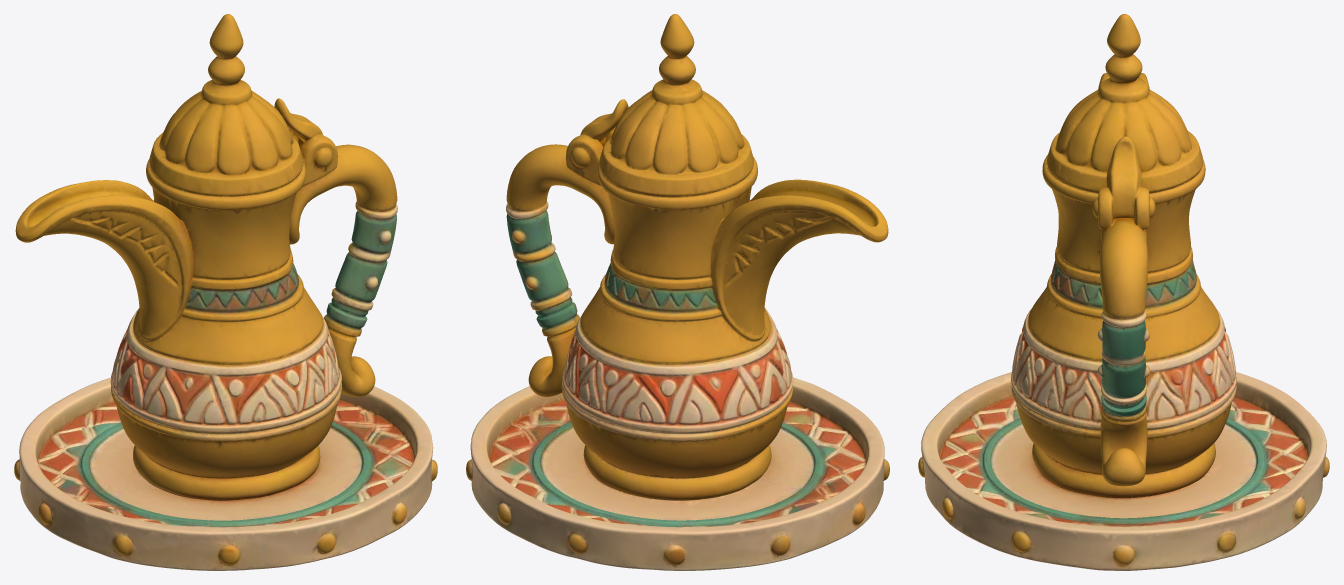
The model's file is Meshy_AI_model.glb.
3 views of the same model, side by side, from view 1: azimuth 30°, elevation 25°; view 2: azimuth 150°, elevation 25°; view 3: azimuth 270°, elevation 25° (orthographic).
Parts seen in each view (by area): view 1: mesh_node; view 2: mesh_node; view 3: mesh_node.
Part boxes in pixels (bbox=[...]): mesh_node: bbox=[14, 14, 437, 570]; mesh_node: bbox=[466, 14, 889, 570]; mesh_node: bbox=[918, 14, 1329, 570].
Bounding box in the file's own units: 1.65 × 1.9 × 1.5.
1 material, 1 textured.
